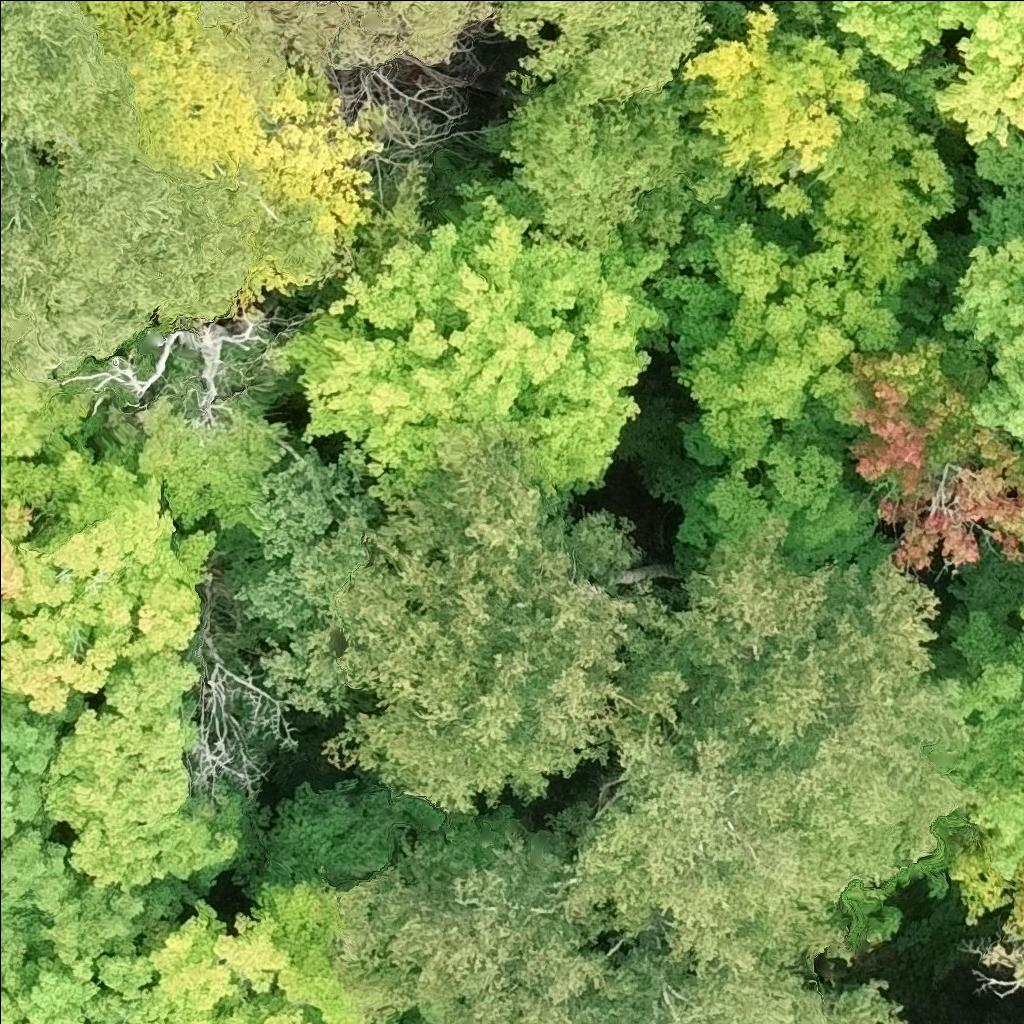crown: (235, 420, 671, 815), (273, 181, 667, 499), (558, 673, 978, 968), (0, 372, 285, 744), (73, 0, 386, 311), (659, 4, 957, 295), (617, 516, 940, 766), (636, 191, 914, 480), (331, 821, 674, 1023), (0, 143, 258, 377), (0, 717, 198, 965), (813, 336, 1023, 568), (45, 650, 239, 891), (501, 69, 735, 266), (675, 419, 899, 581), (141, 884, 391, 1023), (0, 0, 163, 175), (832, 0, 1023, 146), (180, 590, 295, 799), (198, 0, 501, 78), (61, 318, 272, 427), (937, 612, 1023, 877), (493, 0, 709, 102), (644, 943, 908, 1023), (939, 235, 1023, 447), (0, 947, 181, 1023), (322, 63, 469, 147), (948, 847, 1023, 983), (968, 128, 1023, 251), (796, 0, 822, 18), (1016, 597, 1023, 630)
